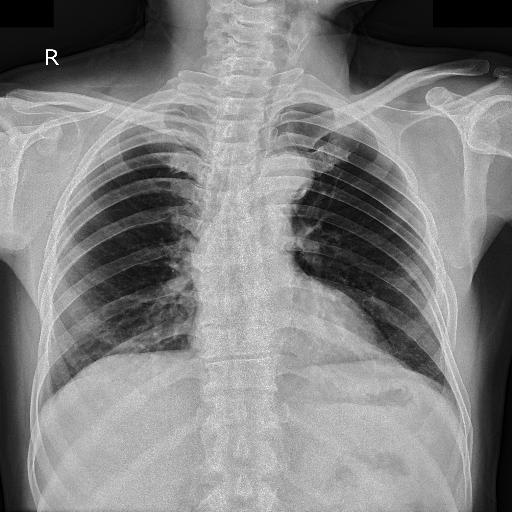Aortic enlargement: (218, 121, 282, 180)
